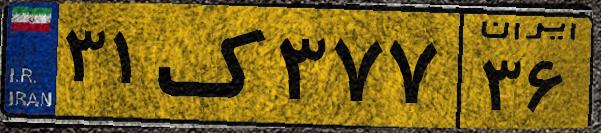1: (110, 28, 158, 98)
3: (270, 28, 330, 110), (57, 26, 110, 100), (475, 38, 525, 113)
6: (525, 38, 570, 115)
7: (385, 28, 445, 110), (330, 28, 385, 110)
ک: (158, 12, 270, 120)
